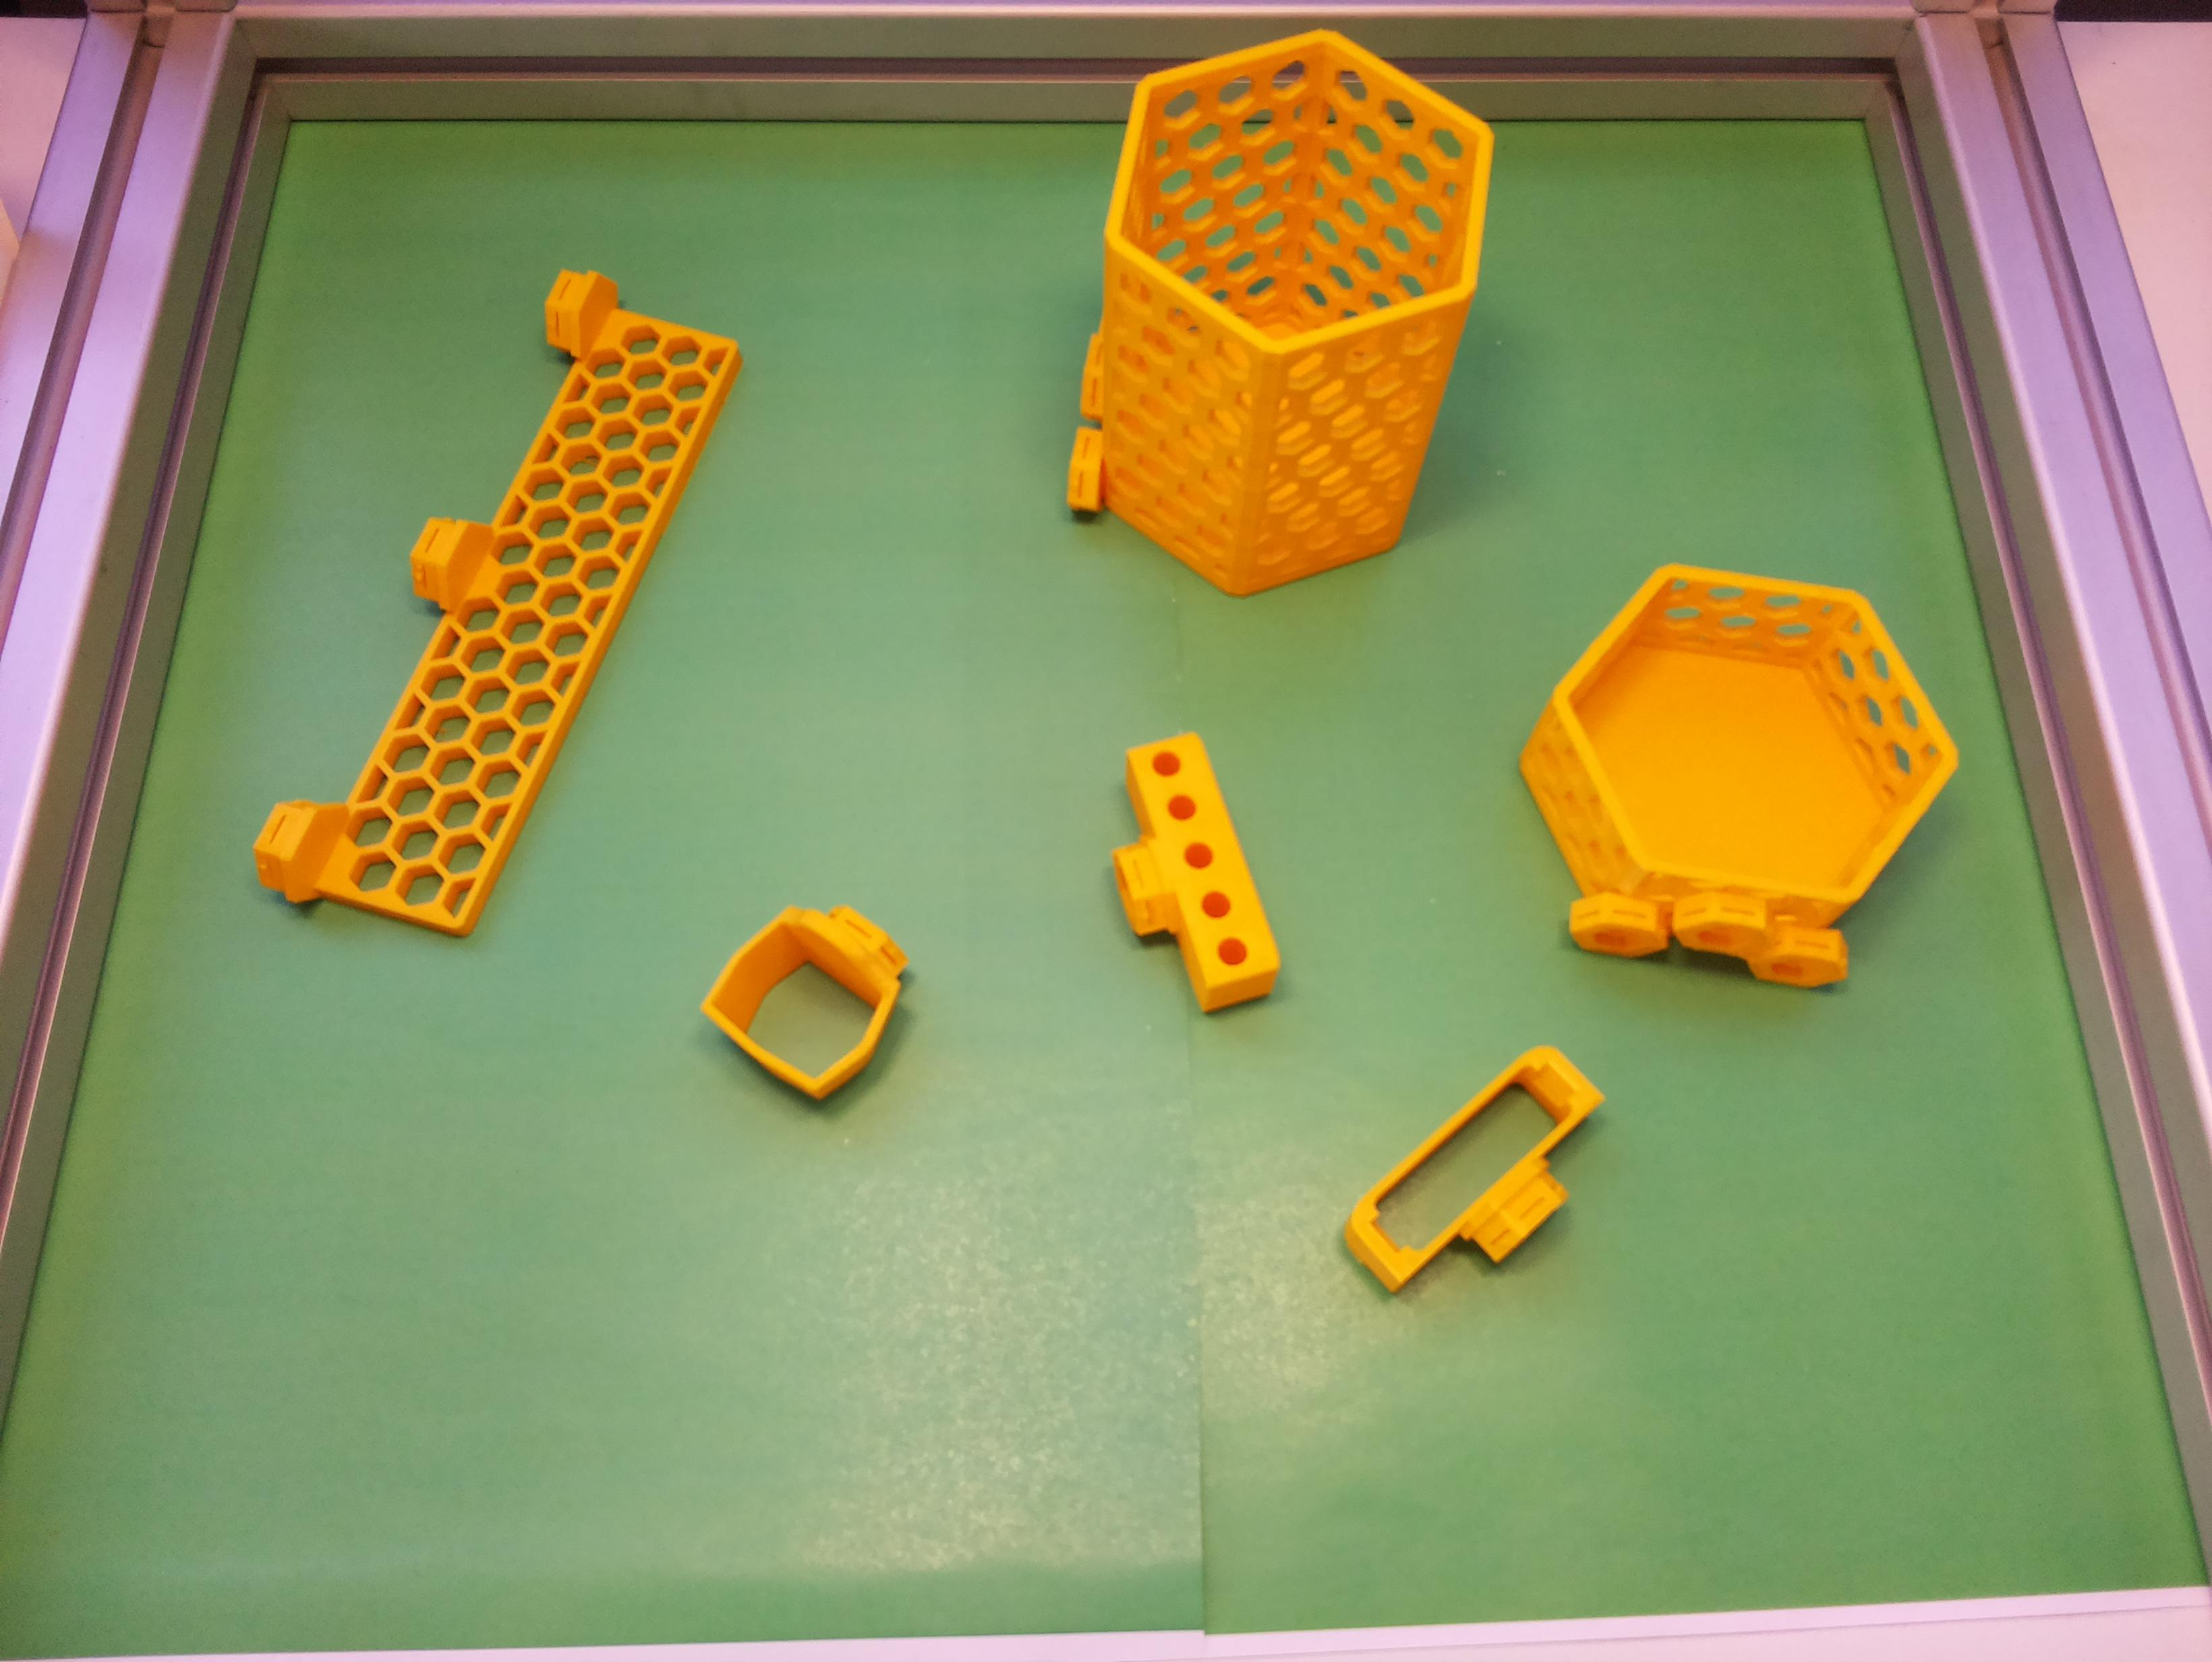bit_holder: (1074, 725, 1290, 1030)
bottle_holder: (1456, 491, 2006, 1061)
cutter_holder: (1329, 1030, 1639, 1332)
scissor_holder: (690, 869, 936, 1117)
tool_holder: (239, 250, 761, 979)
